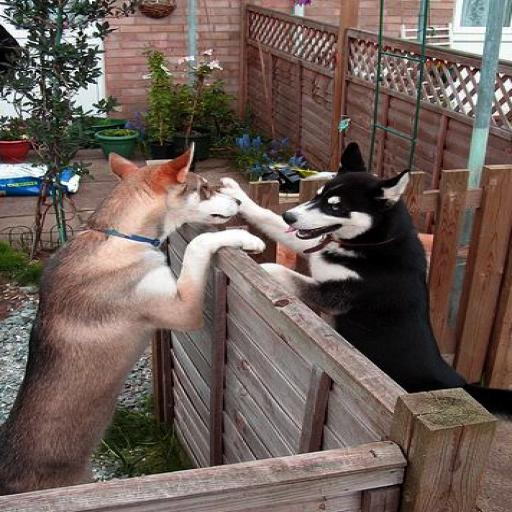dog_face: (292, 160, 406, 246)
